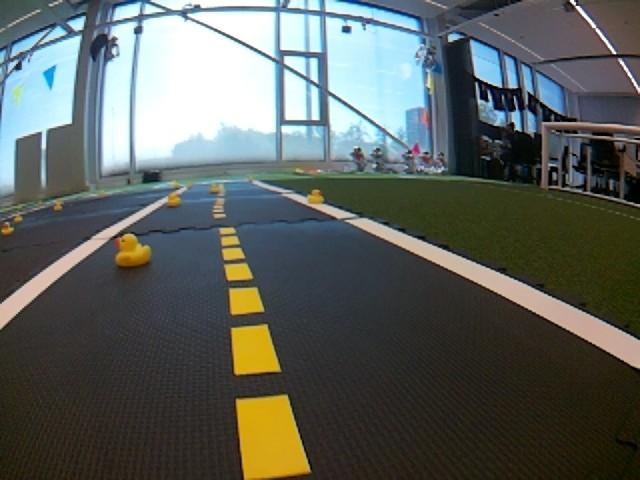Duckies: (115, 233, 151, 266), (306, 189, 322, 203), (166, 193, 182, 206), (1, 221, 14, 235), (14, 214, 24, 224), (210, 185, 221, 193), (54, 203, 64, 210), (171, 181, 179, 187), (187, 183, 194, 187)
